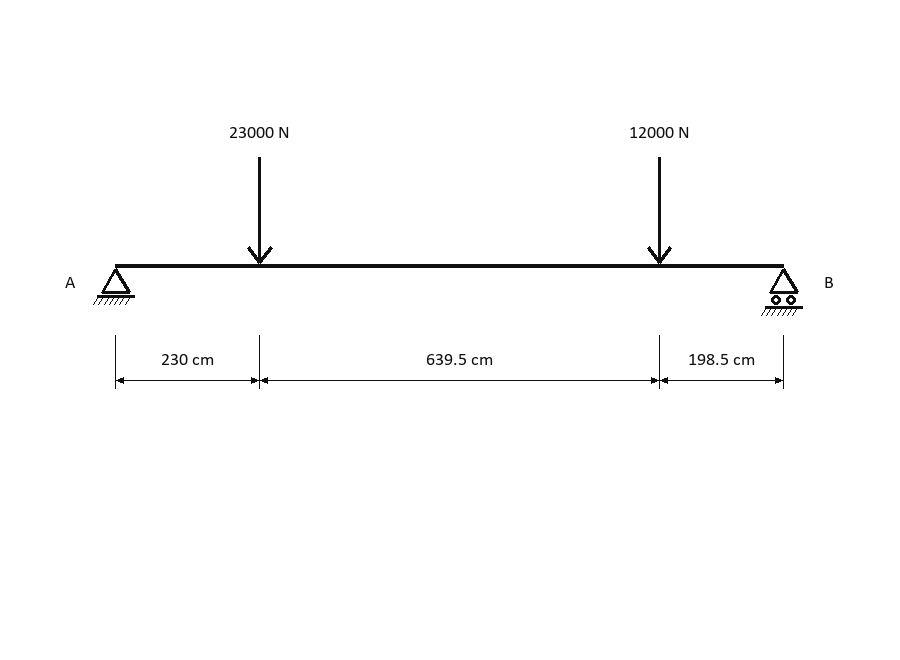pin_support: (93, 268, 135, 305)
point_load: (247, 157, 273, 264), (647, 157, 672, 264)
roller_support: (761, 268, 803, 316)
